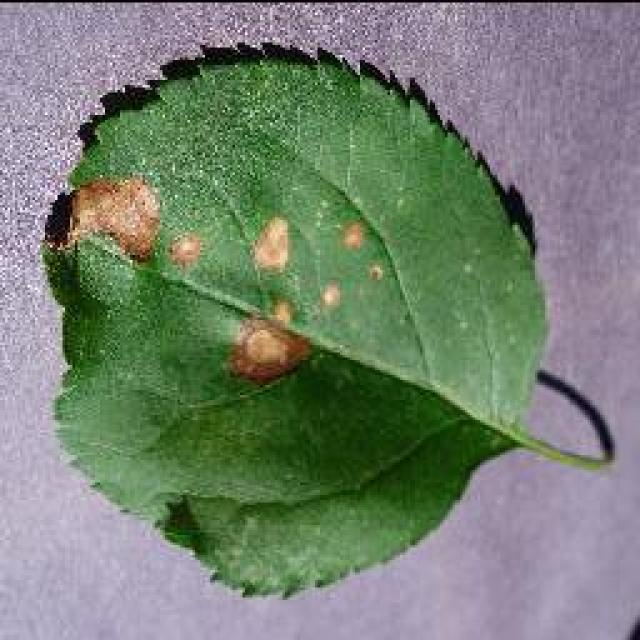black_rot: (52, 176, 205, 288), (219, 313, 320, 389), (247, 203, 299, 285), (338, 196, 371, 256), (314, 271, 350, 320), (364, 250, 390, 290)
